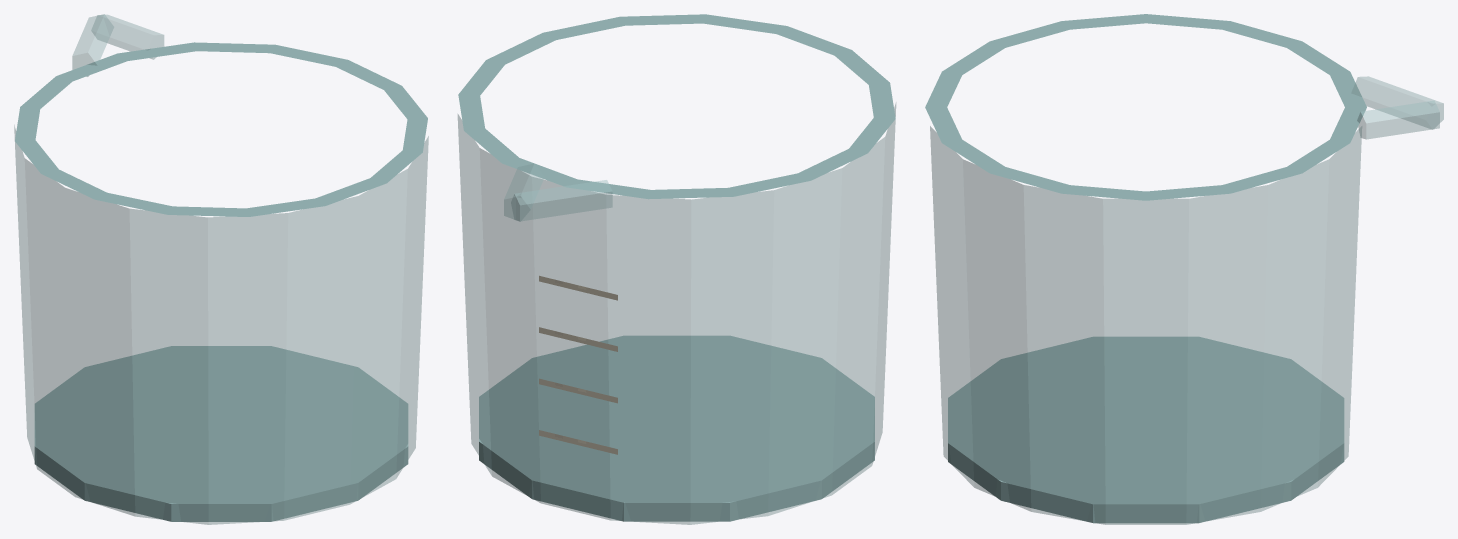
Rendered from beaker.glb.
3 views of the same model, side by side, from view 1: azimuth 30°, elevation 25°; view 2: azimuth 150°, elevation 25°; view 3: azimuth 270°, elevation 25° (orthographic). The views are drawn at different scales.
Visible parts, largest first — view 1: block_glass side, block_glass base, block_pour spout 0, block_pour spout 1, block_glass rim 13, block_glass rim 5, block_glass rim 14, block_glass rim 12, block_glass rim 4, block_glass rim 6, block_glass rim 3, block_glass rim 11 (+8 smaller); view 2: block_glass side, block_glass base, block_pour spout 1, block_pour spout 0, block_mark (×2), block_glass rim 2, block_glass rim 9, block_glass rim 3, block_glass rim 1, block_glass rim 10, block_glass rim 11, block_glass rim 4 (+9 smaller); view 3: block_glass side, block_glass base, block_pour spout 1, block_pour spout 0, block_glass rim 8, block_glass rim 0, block_glass rim 15, block_glass rim 7, block_glass rim 14, block_glass rim 9, block_glass rim 1, block_glass rim 6 (+8 smaller).
Part boxes in pixels (x1,y1,x2,y2): block_glass side: (14,125,428,524); block_glass base: (34,346,408,521); block_pour spout 0: (91,14,164,59); block_pour spout 1: (72,14,113,76); block_glass rim 13: (194,42,274,53); block_glass rim 5: (167,206,248,216); block_glass rim 14: (270,44,347,66); block_glass rim 12: (117,42,196,60); block_glass rim 4: (246,198,324,216); block_glass rim 6: (95,192,172,214); block_glass rim 3: (315,178,386,205); block_glass rim 11: (56,53,127,81); block_glass side: (457,103,896,524); block_glass base: (479,335,874,521); block_pour spout 1: (511,180,612,221); block_pour spout 0: (504,163,544,221); block_mark (×2): (539,275,617,403); block_glass rim 2: (620,14,705,25); block_glass rim 9: (728,173,810,196); block_glass rim 3: (703,14,786,33); block_glass rim 1: (543,16,625,39); block_glass rim 10: (648,188,733,199); block_glass rim 11: (567,179,650,198); block_glass rim 4: (776,26,851,55); block_glass side: (930,126,1361,524); block_glass base: (948,336,1344,523); block_pour spout 1: (1351,76,1443,129); block_pour spout 0: (1357,100,1439,139); block_glass rim 8: (1146,14,1230,29); block_glass rim 0: (1062,185,1145,200); block_glass rim 15: (1146,185,1229,200); block_glass rim 7: (1062,14,1145,29); block_glass rim 14: (1222,167,1301,193); block_glass rim 9: (1222,21,1301,47); block_glass rim 1: (990,167,1069,193); block_glass rim 6: (990,21,1069,47).
Bounding box in the file's own units: 0.0613 × 0.0528 × 0.072.
Materials: 2 (2 with a texture image).
